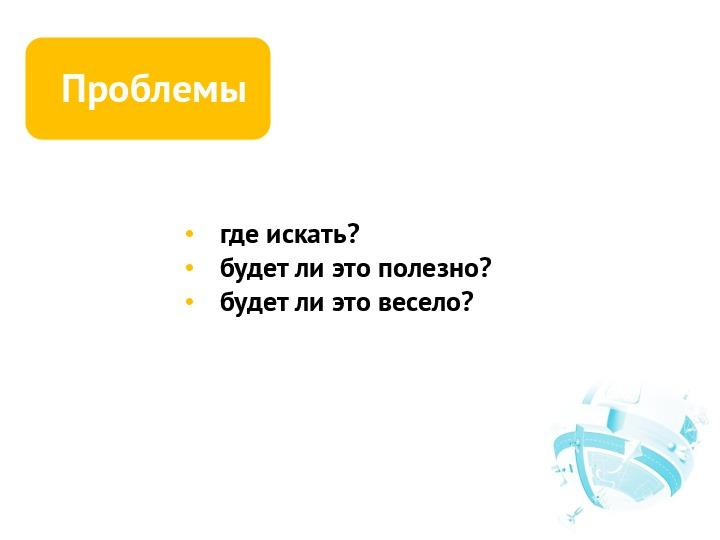subtitle: (185, 197, 525, 354)
title: (52, 55, 264, 125)
